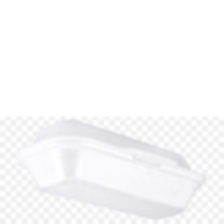foam_box: (8, 115, 212, 224)
